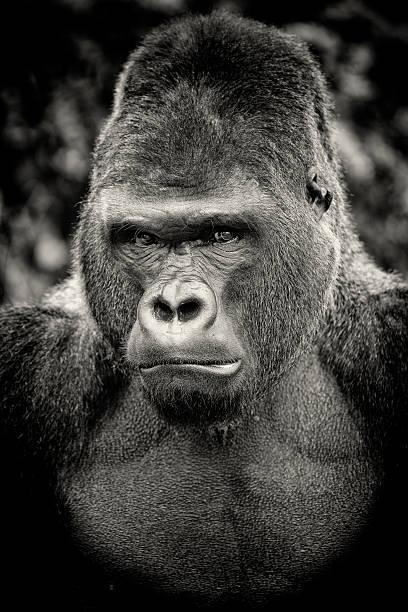gorille_Autres: (0, 0, 408, 610)
